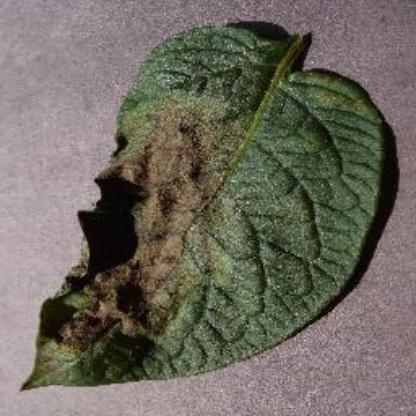Late-Blight: (6, 5, 404, 401)
